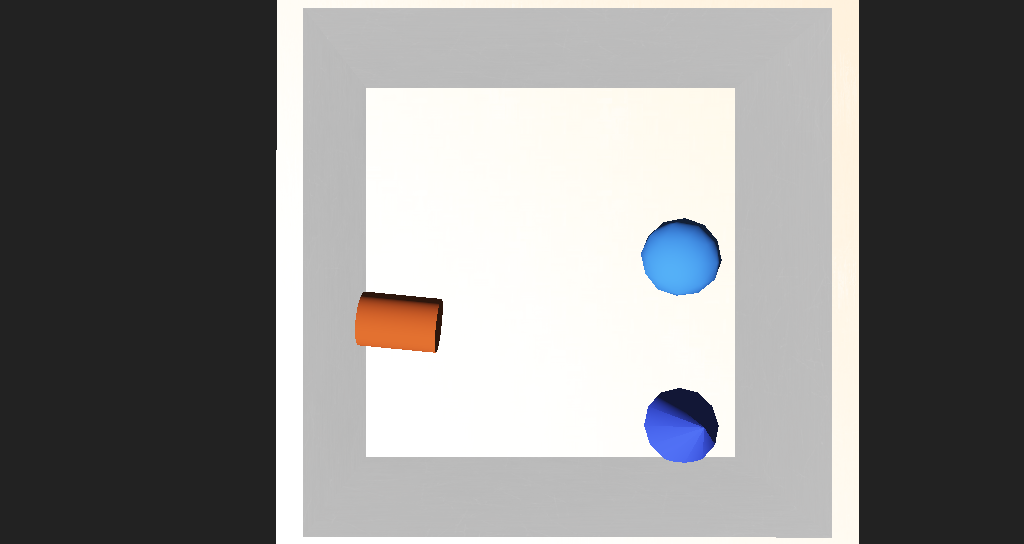cone: (347, 277, 421, 315)
cylinder: (586, 327, 653, 389)
sphere: (583, 241, 643, 284)
